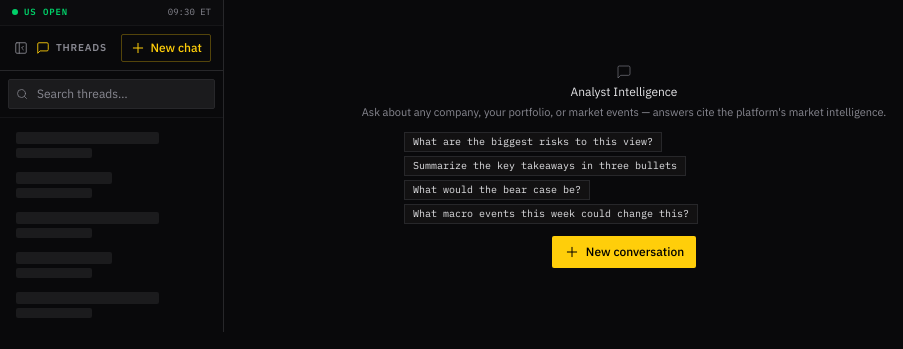
Chat page — history sidebar (Round 1 Foundation) › collapses to a slim rail and expands back
Expected: the text "Threads" is shown, [56, 41, 107, 55]
Collapse: the full panel is replaced by the slim rail.
Click the button named "collapse thread list" at (21, 48), box [12, 39, 30, 57]
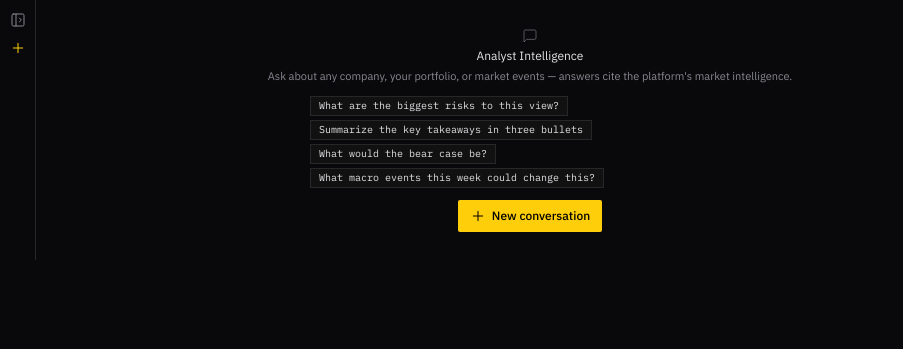
Expected: the text "Threads" is gone
Expected: the button named "expand thread list" is shown
Expected: the button named "start new chat" is shown, [6, 36, 30, 60]
Expand: the full panel returns.
Click the button named "expand thread list" at (18, 20), box [6, 8, 30, 32]
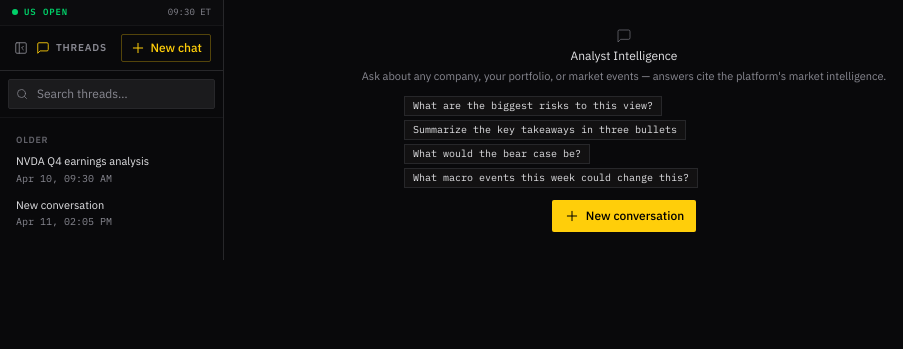
Expected: the text "Threads" is shown, [56, 41, 107, 55]
